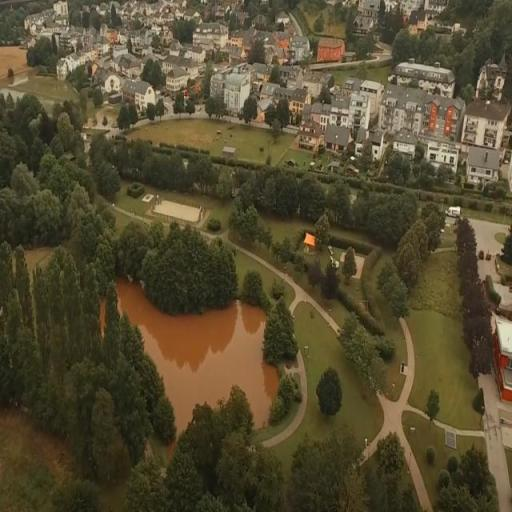flood: (117, 278, 278, 433), (470, 218, 510, 282)
house: (383, 86, 464, 136), (461, 96, 510, 152), (392, 57, 458, 98), (317, 111, 353, 154), (464, 145, 502, 185), (120, 76, 156, 118), (219, 70, 250, 118), (494, 318, 512, 398), (57, 44, 96, 79), (475, 60, 508, 96), (193, 22, 229, 53), (163, 60, 191, 96), (427, 140, 459, 166), (316, 37, 346, 63), (392, 125, 417, 156), (118, 51, 144, 80), (350, 91, 370, 127), (288, 88, 310, 119), (309, 71, 336, 96), (26, 12, 55, 34), (102, 70, 123, 99), (259, 79, 282, 104), (298, 121, 319, 148), (364, 80, 384, 108), (281, 64, 304, 86), (98, 24, 120, 46), (293, 34, 309, 64), (126, 28, 150, 46), (352, 15, 373, 35), (362, 0, 385, 18), (254, 63, 272, 83), (230, 31, 248, 50), (184, 47, 206, 62), (400, 0, 423, 14), (159, 27, 175, 46), (53, 0, 69, 17), (155, 7, 174, 21), (276, 11, 291, 25), (278, 31, 288, 49)
